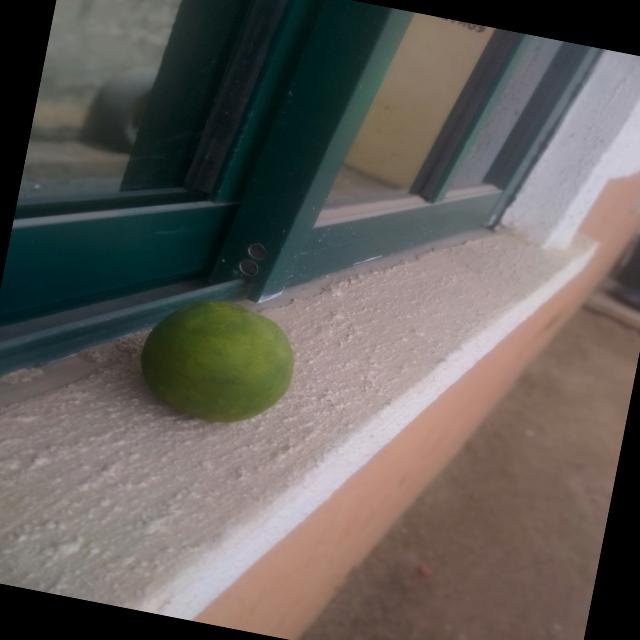agrume: (99, 241, 342, 451)
